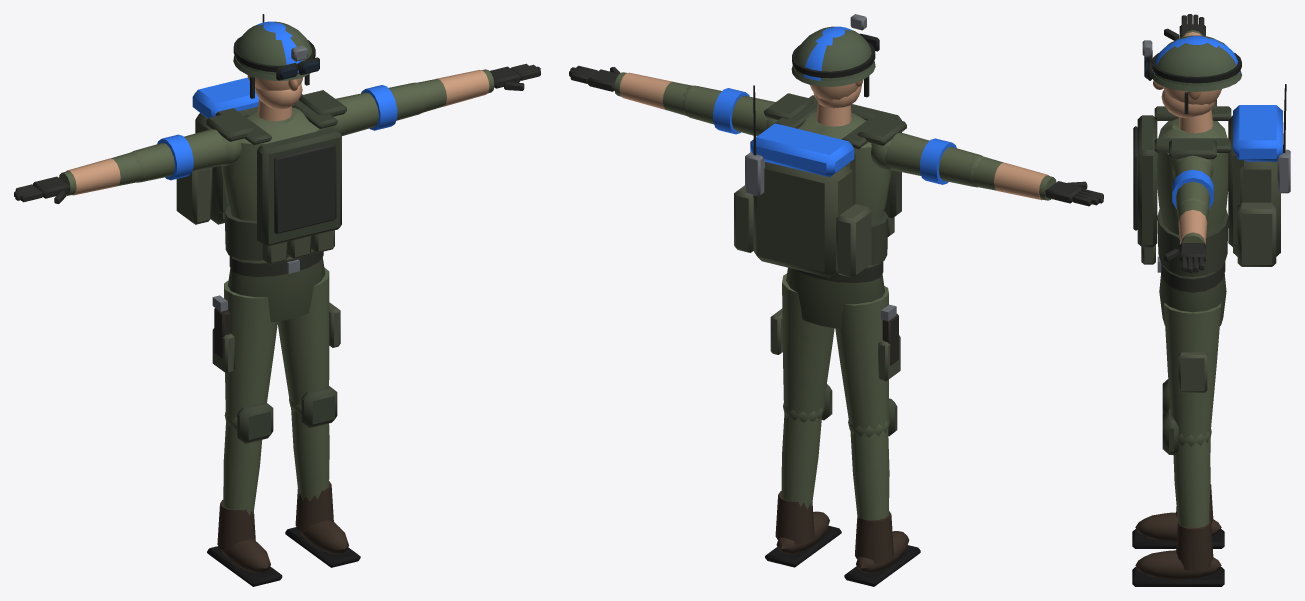
File: SK_Soldado_Aliado_TPose.fbx
3 views of the same model, side by side, from view 1: azimuth 30°, elevation 25°; view 2: azimuth 150°, elevation 25°; view 3: azimuth 270°, elevation 25° (orthographic). The views are drawn at different scales.
Parts seen in each view (by area): view 1: SK_Soldado_Aliado; view 2: SK_Soldado_Aliado; view 3: SK_Soldado_Aliado.
Boxes of the visible parts, x1,y1,x2,y2 form: SK_Soldado_Aliado: (14, 14, 540, 586); SK_Soldado_Aliado: (569, 14, 1103, 586); SK_Soldado_Aliado: (1132, 14, 1290, 586).
Size of the model in its own units: 1.88 by 1.8 by 0.494.
1 material, 1 textured.
